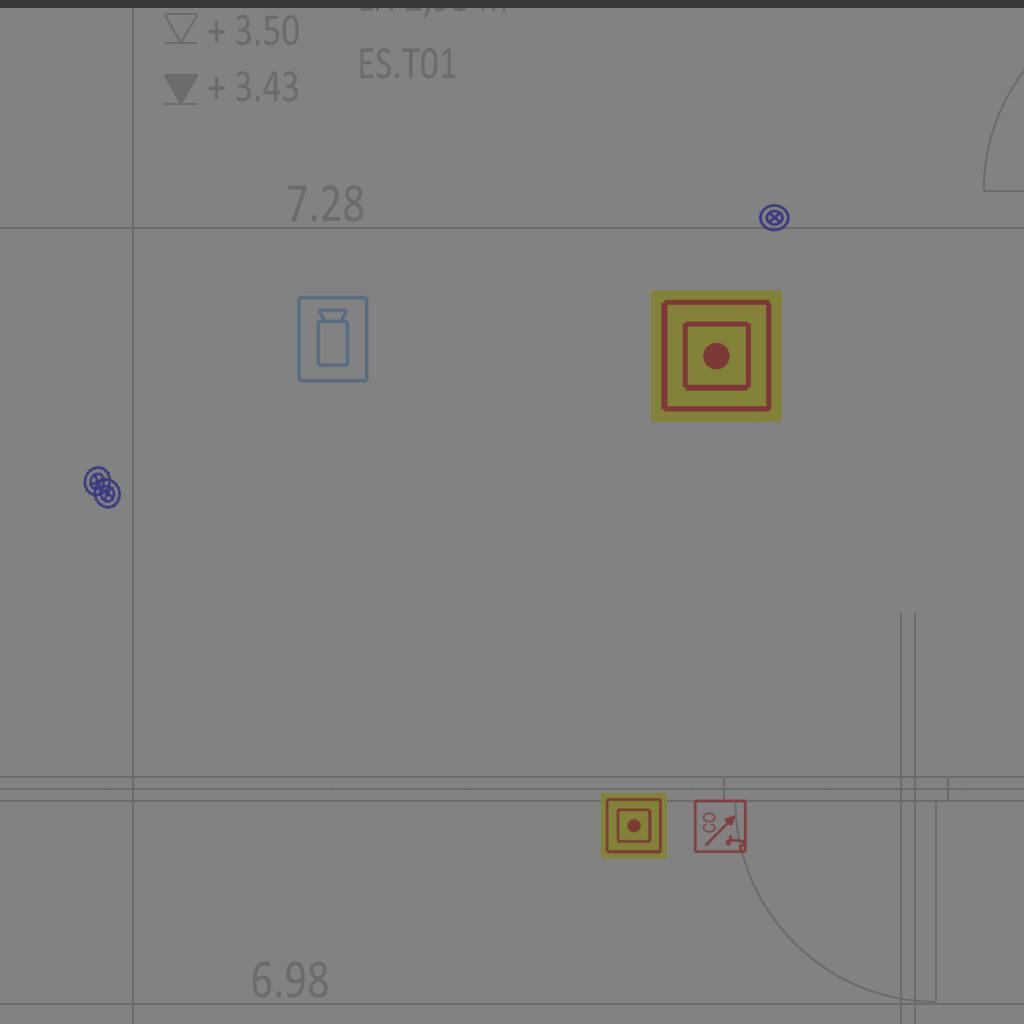KFO_Kamera_mit_Festobjektiv: (295, 294, 372, 385)
NAM-Nichtautomatischer_Melder: (650, 290, 782, 422), (601, 793, 667, 859)
ROA_Rauchmelder_optisch_mit_Signalgeber_(Sockelsirene): (693, 798, 749, 854)
Taster_beleuchtet: (76, 460, 119, 503), (87, 473, 128, 514), (758, 201, 791, 234)
